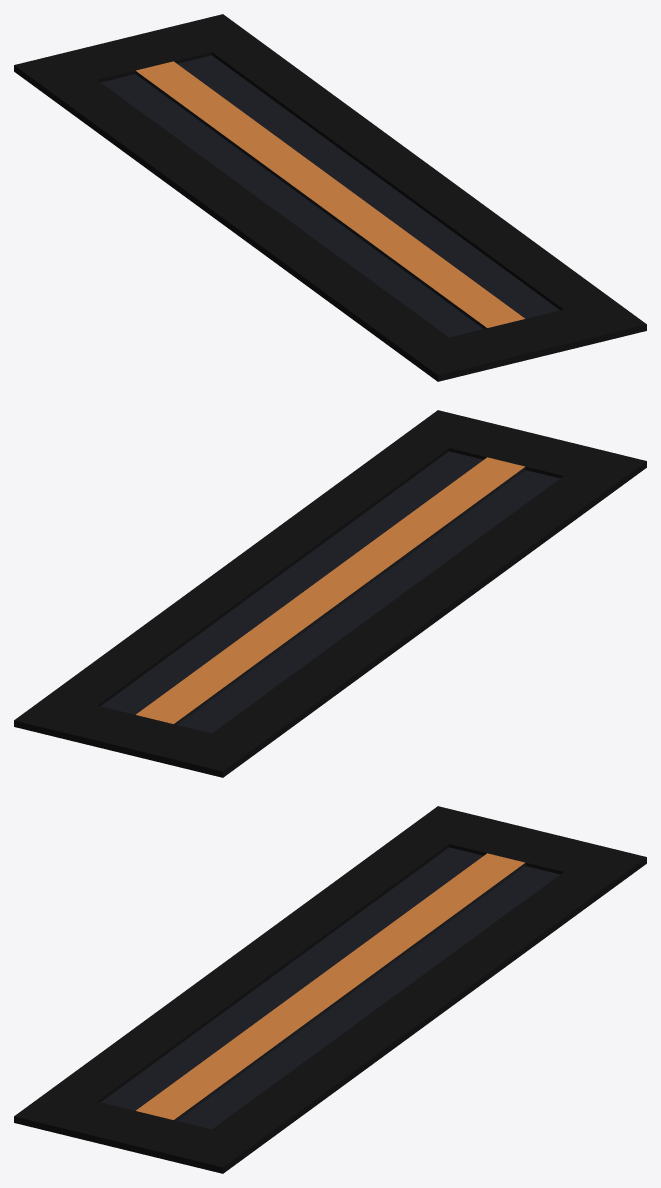
The model's file is floor.FBX.
3 views of the same model, one above another, from view 1: azimuth 30°, elevation 25°; view 2: azimuth 150°, elevation 25°; view 3: azimuth 330°, elevation 25° (orthographic).
Parts seen in each view (by area): view 1: floor; view 2: floor; view 3: floor.
Boxes of the visible parts, bbox=[...] form: floor: bbox=[14, 14, 646, 381]; floor: bbox=[14, 410, 646, 777]; floor: bbox=[14, 806, 646, 1173].
Size of the model in its own units: 344 by 10.23 by 1210.
